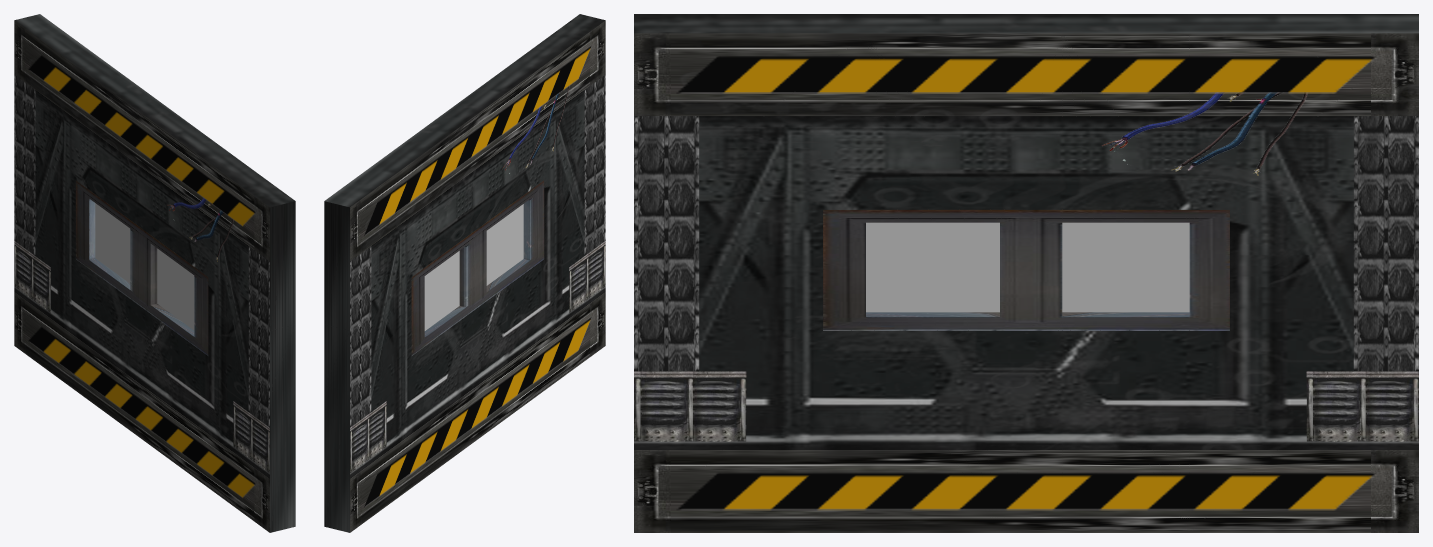
Rendered from door.glb.
The picture shows the model from 3 angles, left to right: view 1: azimuth 30°, elevation 25°; view 2: azimuth 150°, elevation 25°; view 3: azimuth 270°, elevation 25°; orthographic projection. The views are drawn at different scales.
Visible parts, largest first — view 1: Cube.001; view 2: Cube.001; view 3: Cube.001.
Part boxes in pixels (x1=…): Cube.001: x1=14, y1=14, x2=295, y2=532; Cube.001: x1=324, y1=14, x2=605, y2=532; Cube.001: x1=634, y1=14, x2=1418, y2=532.
Size of the model in its own units: 0.4645 by 5.6 by 7.97.
2 materials, 1 textured.
